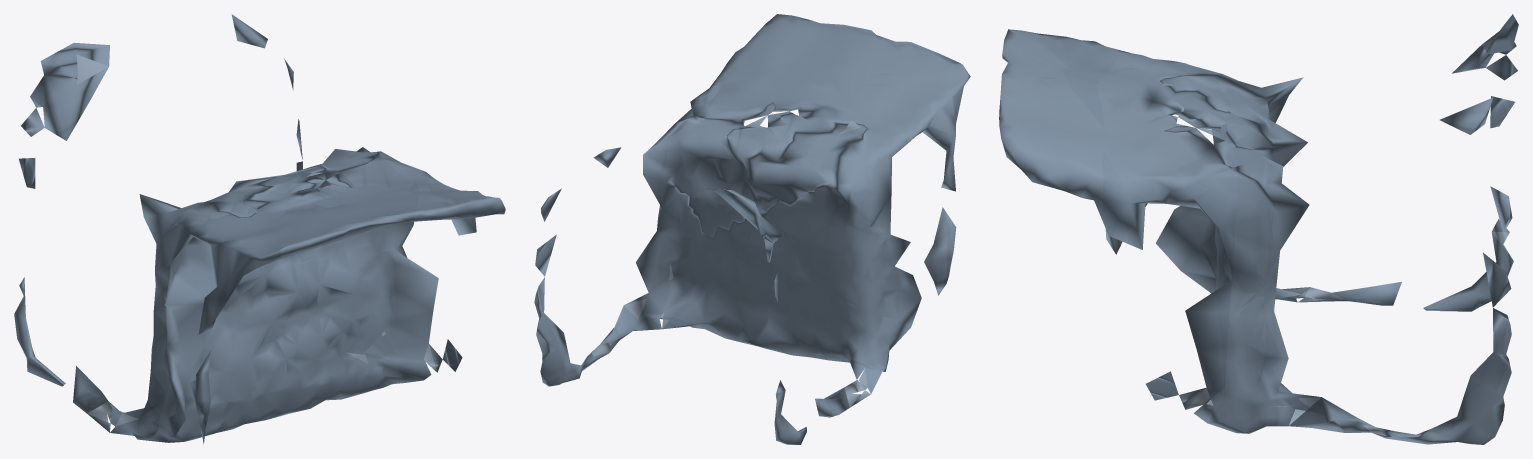
The model's file is chair_0902_recon.obj.
3 renders of one model, left to right at view 1: azimuth 30°, elevation 25°; view 2: azimuth 150°, elevation 25°; view 3: azimuth 270°, elevation 25°, orthographic. The views are drawn at different scales.
Size of the model in its own units: 1.02 by 0.9936 by 1.48.
